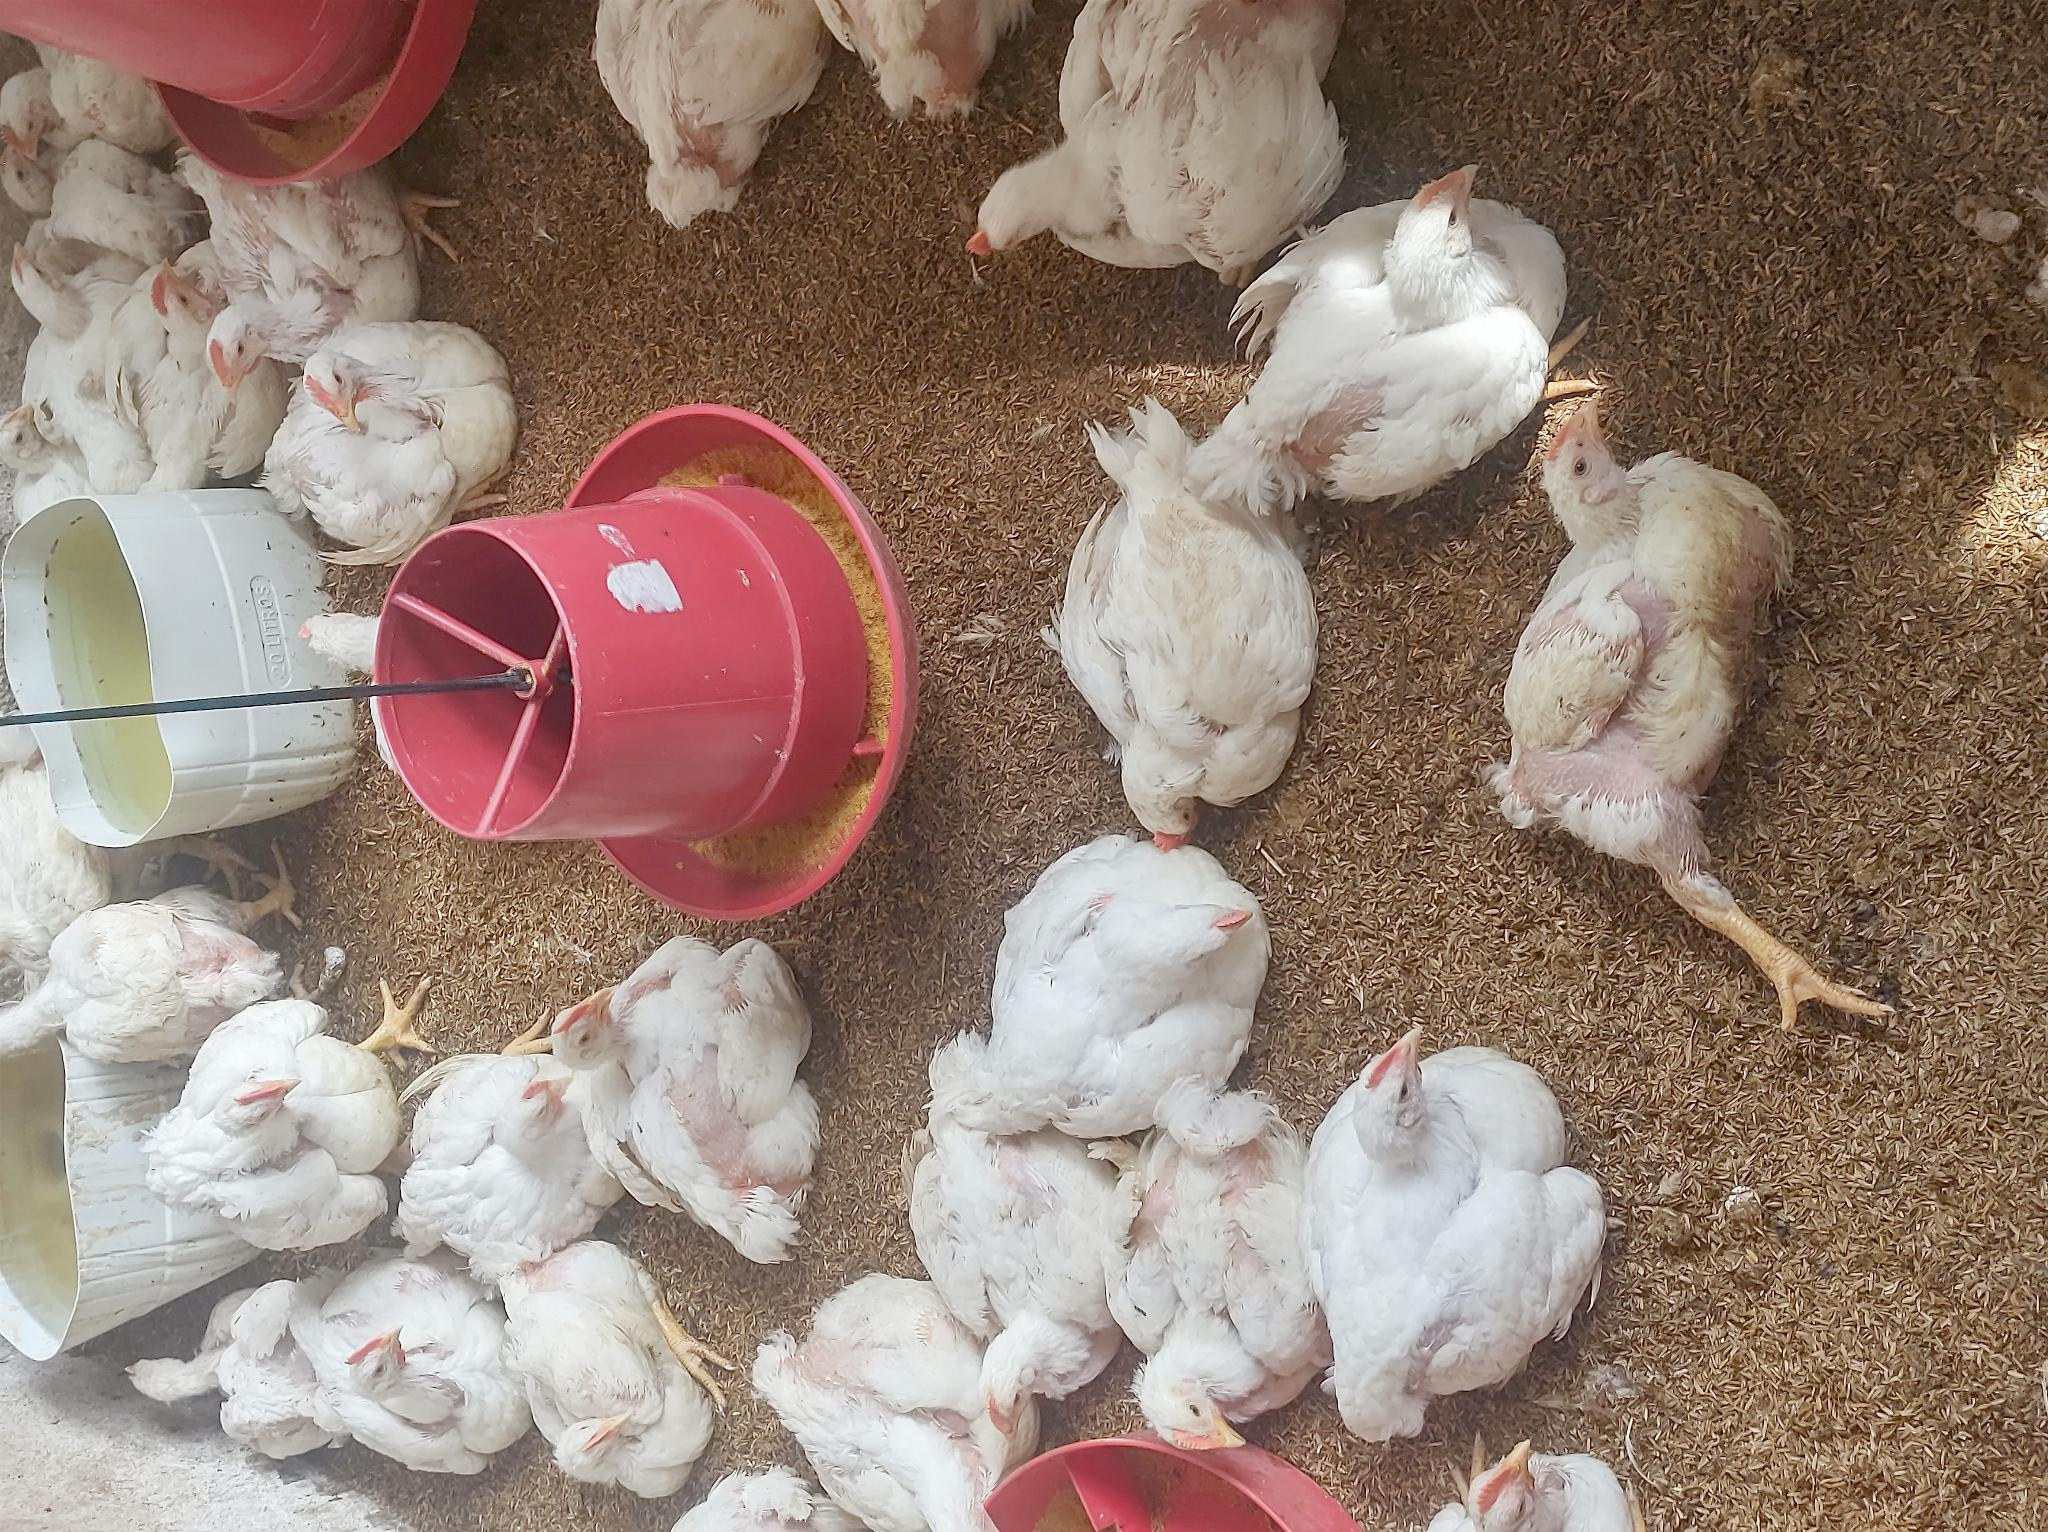Pollos: (1538, 386, 1828, 983), (989, 370, 1322, 850), (1260, 129, 1646, 484), (1303, 1019, 1630, 1389), (920, 797, 1273, 1122), (544, 887, 846, 1260), (985, 0, 1334, 291), (1081, 1032, 1334, 1424), (738, 1233, 1068, 1532), (584, 0, 911, 275), (124, 991, 430, 1263), (883, 1056, 1133, 1378), (0, 874, 315, 1093), (265, 327, 513, 591), (492, 1233, 742, 1489), (198, 134, 426, 410), (393, 1001, 624, 1273), (302, 1257, 528, 1489), (127, 1279, 335, 1489), (833, 0, 1047, 134), (1408, 1464, 1696, 1532), (63, 43, 208, 166), (0, 253, 109, 373), (0, 386, 100, 512), (145, 241, 220, 336), (0, 56, 66, 154), (0, 142, 77, 222)
